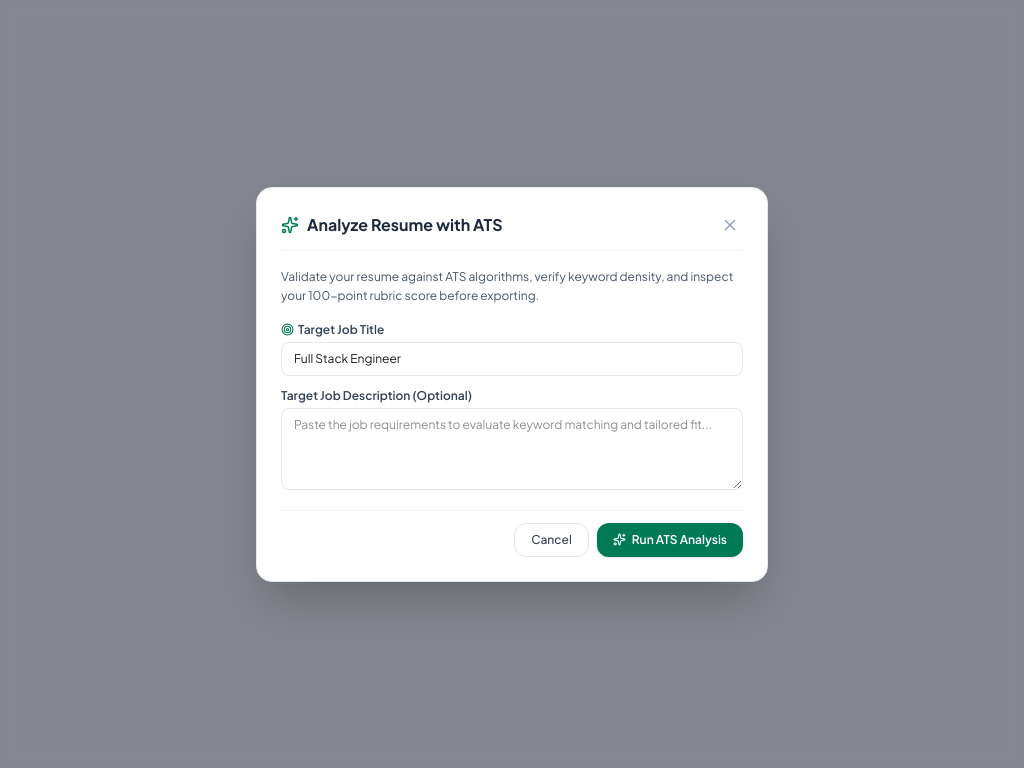
Scenario: Resume Builder - AnalyzeResumeModal Component › initiates ATS analysis and displays the resulting score
expect the heading "Analyze Resume with ATS" is shown: met, box 307,212 -> 503,236
Click the button "Run ATS Analysis" at (670, 540), box 597,522 -> 743,556
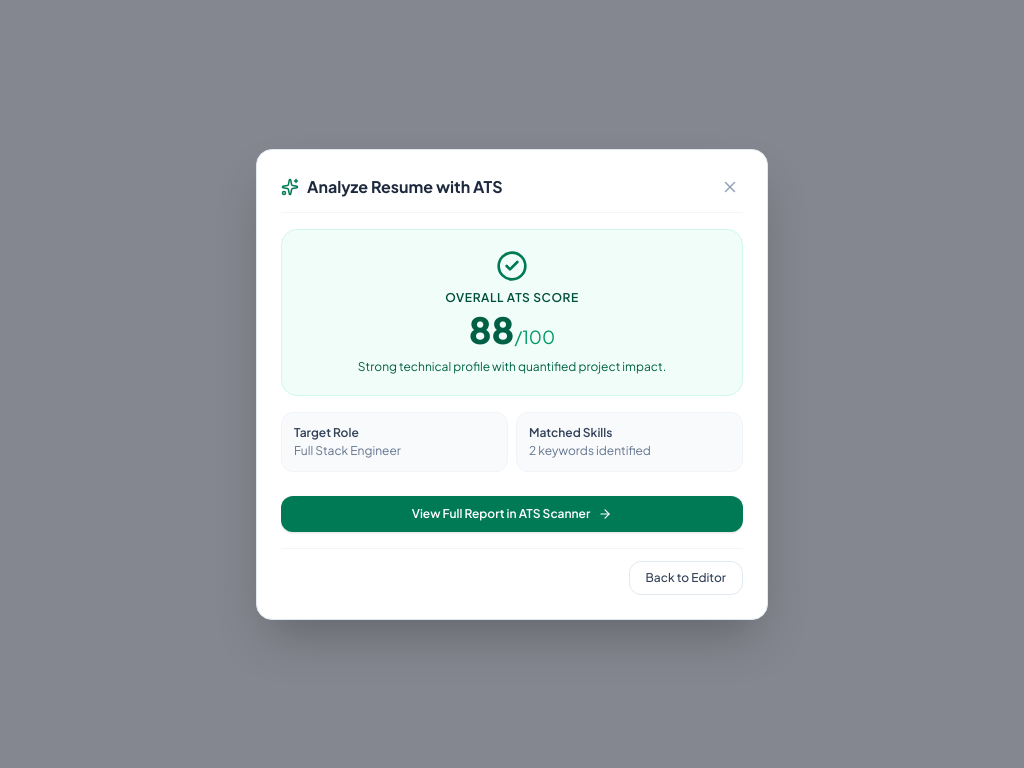
expect the text "88" is shown: met, box 469,306 -> 514,352
expect the text "View Full Report in ATS Scanner" is shown: met, box 412,506 -> 590,522
